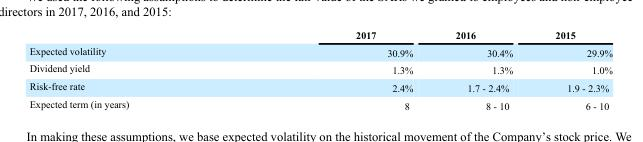table: (28, 29, 612, 110)
table column: (28, 29, 241, 110), (241, 29, 433, 110), (433, 29, 533, 110), (533, 29, 612, 110)
table column header: (28, 29, 612, 42)
table row: (28, 42, 612, 60), (28, 77, 612, 95), (28, 60, 612, 77), (28, 95, 612, 110), (28, 29, 612, 42)
